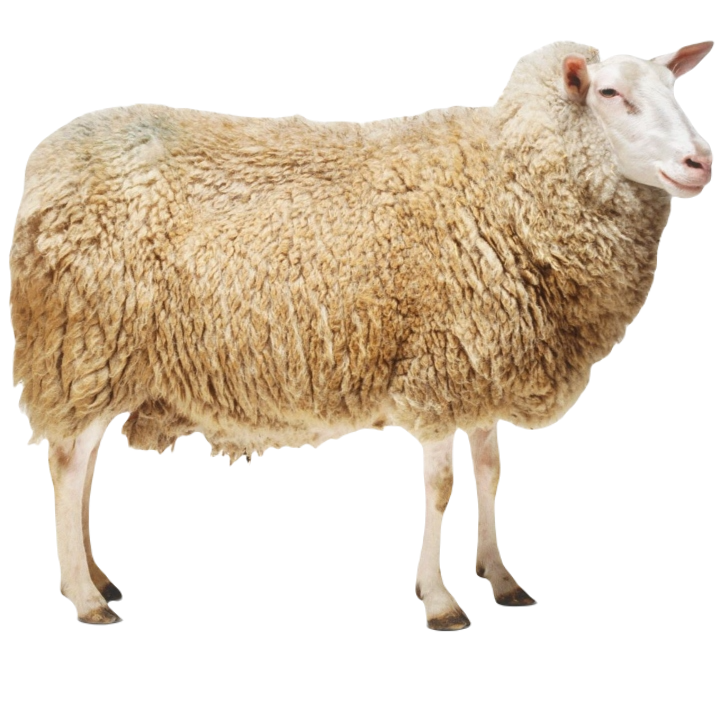Sheep: (6, 34, 719, 631)
